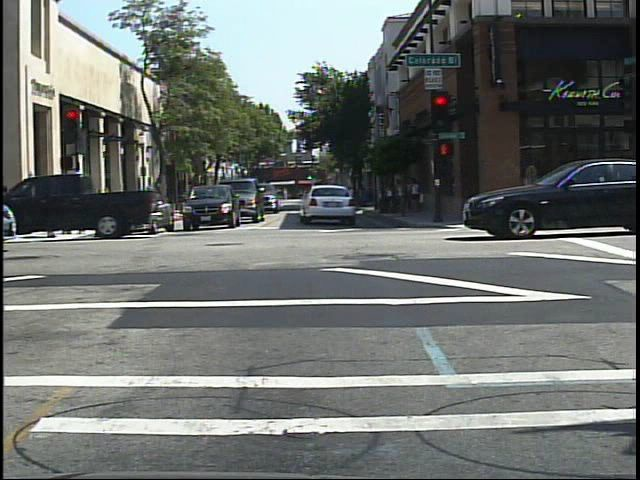person: (149, 180, 167, 217), (142, 183, 160, 217), (91, 187, 105, 228)
